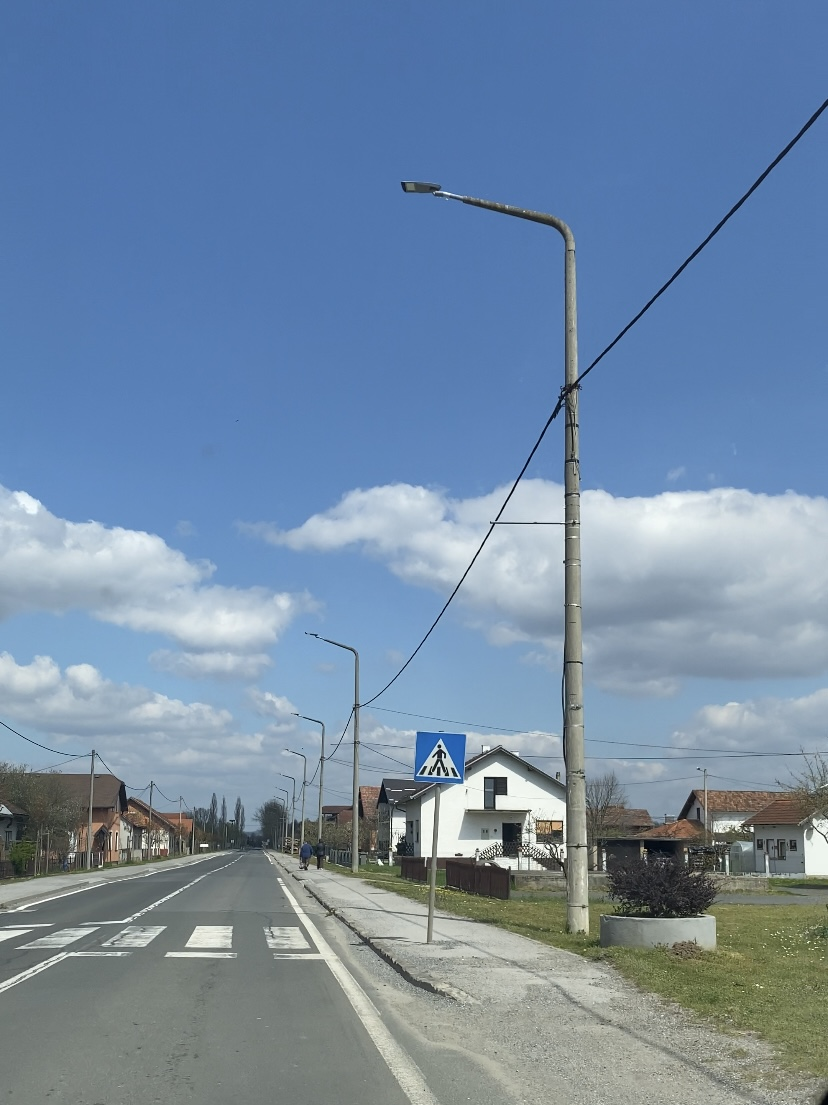Pješački prijelaz: (414, 731, 466, 783)
